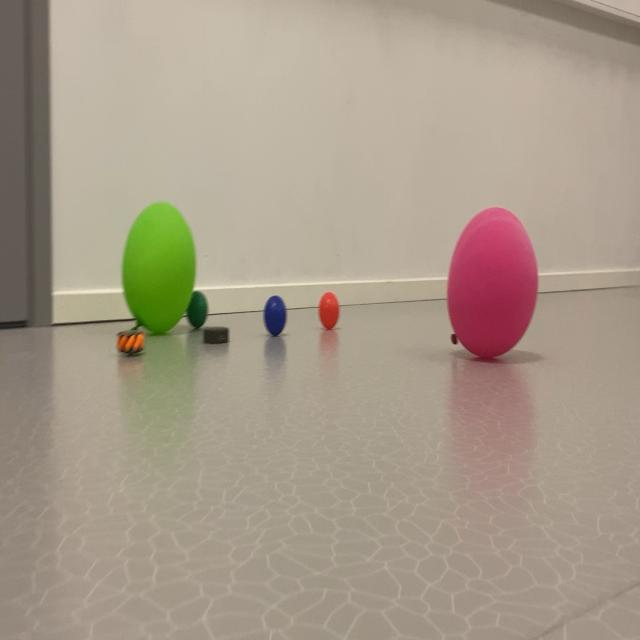6: (255, 261, 358, 359)
7: (304, 260, 346, 352)
green ball: (252, 245, 287, 346)
red ball: (184, 288, 212, 331)
